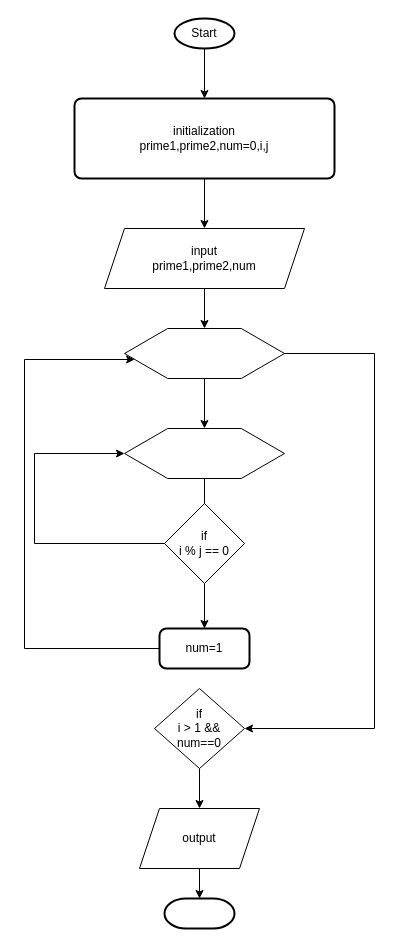
Some shapes in this 400 by 946 pixel diagram are drawn without their labels. The centre of each missing label's shape, as x and y in pixels:
end: pixel 199 913
for i=prime1; i<=prime2: pixel 204 353
for j=2; j<i: pixel 204 453
